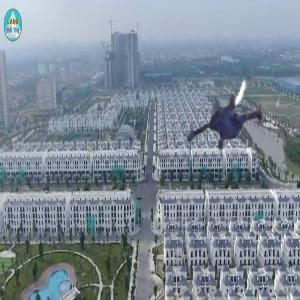drone: (176, 63, 286, 173)
